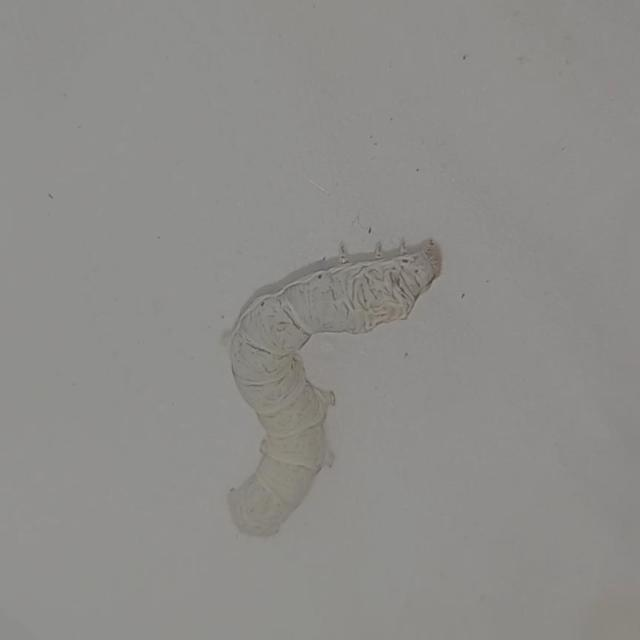Healthy: (153, 219, 489, 562)
